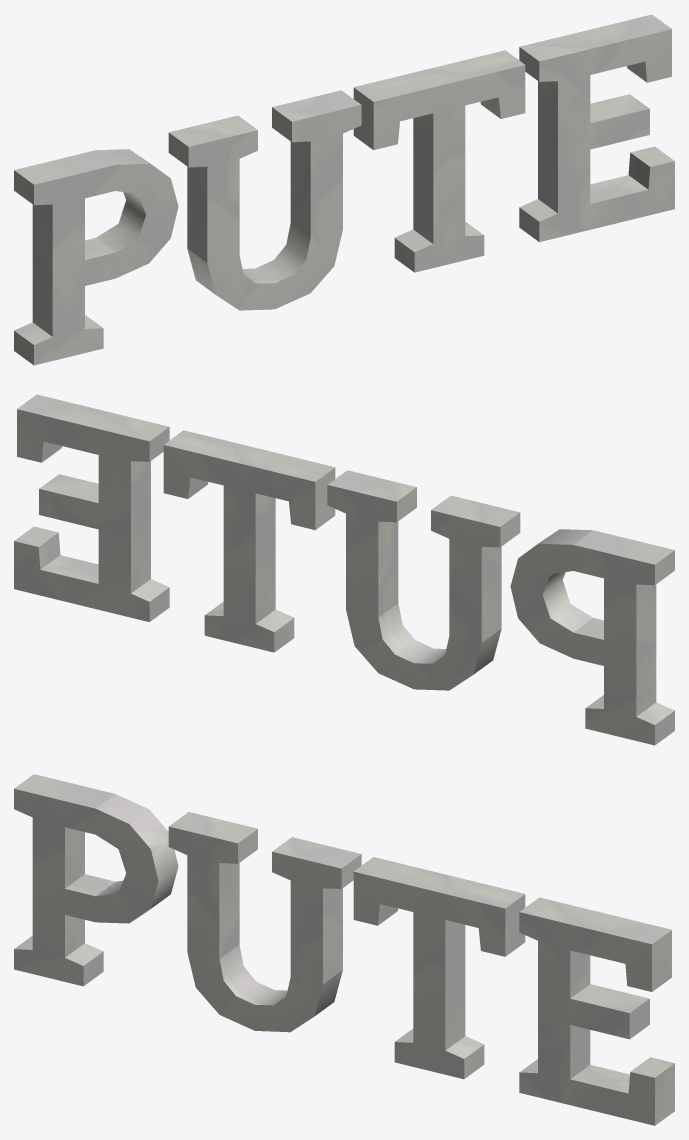
Rendered from pute.glb.
3 renders of one model, top to bottom at view 1: azimuth 30°, elevation 25°; view 2: azimuth 150°, elevation 25°; view 3: azimuth 330°, elevation 25°, orthographic.
Parts seen in each view (by area): view 1: Pute; view 2: Pute; view 3: Pute.
Boxes of the visible parts, x1,y1,x2,y2 form: Pute: (14, 14, 674, 365); Pute: (14, 394, 674, 745); Pute: (14, 774, 674, 1125).
Size of the model in its own units: 5.18 by 1.42 by 0.2805.
Materials: 1 (1 with a texture image).
